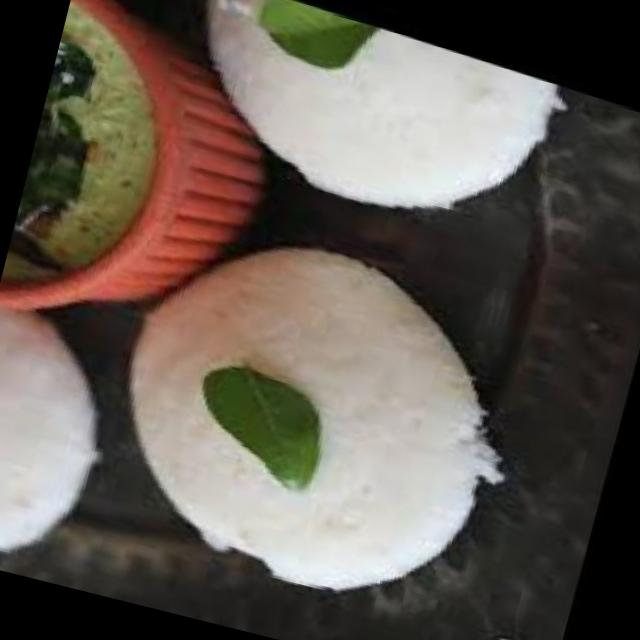idli: (88, 199, 554, 630), (165, 0, 576, 247), (0, 298, 127, 586)
